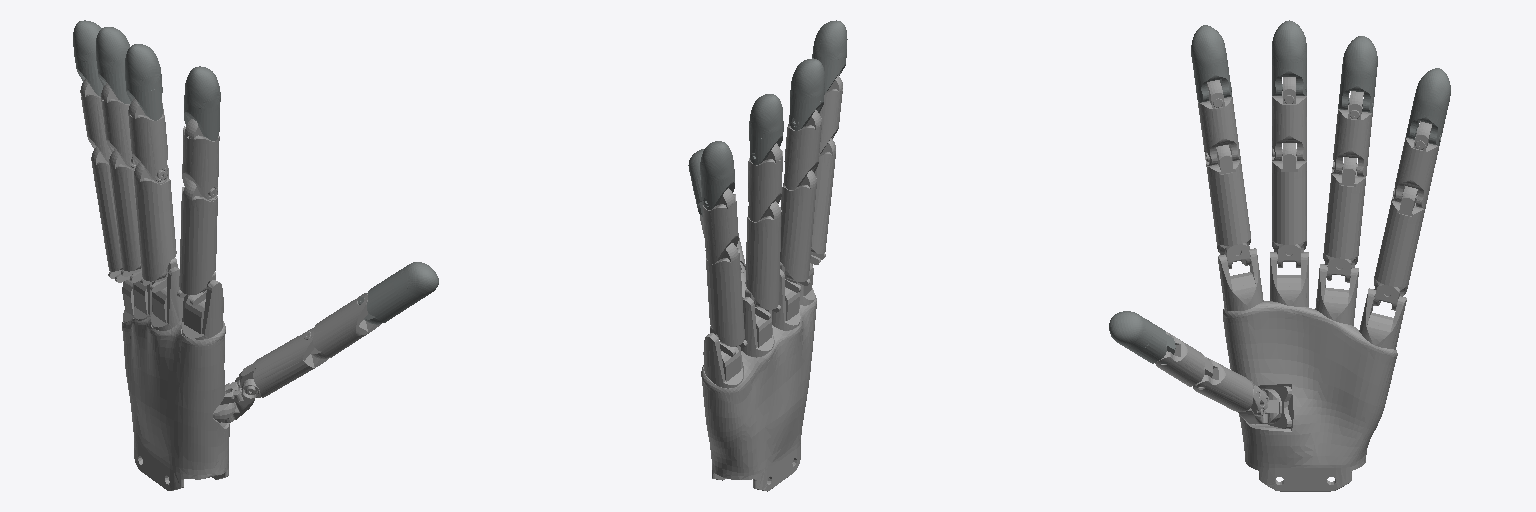
--- What the picture shows (computed from the rendered views, not written in the file) ---
3 views of the same robot in one strip: view 1: azimuth 30°, elevation 25°; view 2: azimuth 150°, elevation 25°; view 3: azimuth 270°, elevation 25° (orthographic).
Model wujihand-right-v1.0.2 with 26 links and 25 joints (20 revolute, 5 fixed), rooted at left_palm_link, posed all joints at 0 but 1 set to mid-range because 0 is outside their limits (left_finger1_joint1 = 0.8262).
Links seen in each view (by area): view 1: left_palm_link, left_finger3_link2, left_finger2_link2, left_finger1_link2, left_finger4_link2, left_finger1_link3, left_finger3_link3, left_finger2_link3, left_finger5_link2, left_finger4_link3, left_finger3_tip_link, left_finger2_tip_link (+9 smaller); view 2: left_palm_link, left_finger4_link2, left_finger3_link2, left_finger5_link2, left_finger3_link3, left_finger4_link3, left_finger5_link3, left_finger2_link2, left_finger3_tip_link, left_finger4_tip_link, left_finger5_tip_link, left_finger2_tip_link (+4 smaller); view 3: left_palm_link, left_finger4_link2, left_finger3_link2, left_finger5_link2, left_finger2_link2, left_finger4_link3, left_finger3_link3, left_finger2_link3, left_finger5_link3, left_finger1_link2, left_finger1_link3, left_finger2_tip_link (+10 smaller).
Boxes of the visible links, bbox=[...] form: left_palm_link: bbox=[122, 267, 235, 490]; left_finger3_link2: bbox=[134, 162, 176, 281]; left_finger2_link2: bbox=[179, 180, 217, 294]; left_finger1_link2: bbox=[240, 328, 329, 397]; left_finger4_link2: bbox=[109, 149, 140, 271]; left_finger1_link3: bbox=[304, 293, 380, 358]; left_finger3_link3: bbox=[128, 98, 167, 183]; left_finger2_link3: bbox=[182, 119, 219, 201]; left_finger5_link2: bbox=[91, 147, 122, 271]; left_finger4_link3: bbox=[101, 83, 135, 169]; left_finger3_tip_link: bbox=[125, 44, 161, 91]; left_finger2_tip_link: bbox=[184, 66, 220, 113]; left_palm_link: bbox=[701, 263, 816, 491]; left_finger4_link2: bbox=[745, 201, 781, 309]; left_finger3_link2: bbox=[780, 170, 816, 281]; left_finger5_link2: bbox=[706, 243, 744, 346]; left_finger3_link3: bbox=[784, 110, 821, 189]; left_finger4_link3: bbox=[748, 143, 782, 221]; left_finger5_link3: bbox=[702, 188, 738, 263]; left_finger2_link2: bbox=[811, 138, 835, 253]; left_finger3_tip_link: bbox=[790, 58, 824, 103]; left_finger4_tip_link: bbox=[749, 94, 783, 138]; left_finger5_tip_link: bbox=[700, 141, 734, 185]; left_finger2_tip_link: bbox=[812, 20, 847, 65]; left_palm_link: bbox=[1218, 248, 1406, 491]; left_finger4_link2: bbox=[1323, 157, 1365, 268]; left_finger3_link2: bbox=[1272, 143, 1306, 254]; left_finger5_link2: bbox=[1374, 186, 1425, 296]; left_finger2_link2: bbox=[1206, 145, 1250, 254]; left_finger4_link3: bbox=[1332, 91, 1372, 176]; left_finger3_link3: bbox=[1272, 77, 1306, 160]; left_finger2_link3: bbox=[1198, 80, 1240, 165]; left_finger5_link3: bbox=[1392, 121, 1439, 208]; left_finger1_link2: bbox=[1193, 356, 1259, 411]; left_finger1_link3: bbox=[1155, 332, 1212, 386]; left_finger2_tip_link: bbox=[1191, 25, 1227, 73].
Size in the robot's own frame: 0.1066 by 0.146 by 0.2057 metres.
Meshes: 26 distinct files referenced, 26 mesh visuals loaded (26 binary STL).

URDF robot description (wujihand-right-v1.0.2):
<?xml version="1.0" encoding="utf-8"?>
<robot
  name="wujihand-right-v1.0.2">
  <mujoco>
    <compiler meshdir="../meshes/left" balanceinertia="true" discardvisual="false" eulerseq="xyz" autolimits="true" />
  </mujoco>
  <link
    name="left_palm_link">
    <inertial><origin xyz="-0.0029787944008666 -0.000452551657325986 0.036654705440297" rpy="0 0 0"/><mass value="0.16914"/><inertia ixx="0.00014" ixy="2.54e-06" ixz="6.91e-06" iyy="9.47e-05" iyz="-6.63e-06" izz="6e-05"/></inertial>
    <visual>
      <origin
        xyz="0 0 0"
        rpy="0 0 0" />
      <geometry>
        <mesh
          filename="package://wuji_hand_description/meshes/left/left_palm_link.STL" />
      </geometry>
      <material
        name="">
        <color
          rgba="0.627450980392157 0.627450980392157 0.627450980392157 1" />
      </material>
    </visual>
    <collision>
      <origin
        xyz="0 0 0"
        rpy="0 0 0" />
      <geometry>
        <mesh
          filename="package://wuji_hand_description/meshes/left/left_palm_link.STL" />
      </geometry>
    </collision>
  </link>
  <link
    name="left_finger1_link1">
    <inertial><origin xyz="-0.00312584337053766 0.00124334711478157 -0.00755622685821667" rpy="0 0 0"/><mass value="0.0075"/><inertia ixx="3.2e-07" ixy="-2e-08" ixz="0.0" iyy="3e-07" iyz="4e-08" izz="2.3e-07"/></inertial>
    <visual>
      <origin
        xyz="0 0 0"
        rpy="0 0 0" />
      <geometry>
        <mesh
          filename="package://wuji_hand_description/meshes/left/left_finger1_link1.STL" />
      </geometry>
      <material
        name="">
        <color
          rgba="0.627450980392157 0.627450980392157 0.627450980392157 1" />
      </material>
    </visual>
    <collision>
      <origin
        xyz="0 0 0"
        rpy="0 0 0" />
      <geometry>
        <mesh
          filename="package://wuji_hand_description/meshes/left/left_finger1_link1.STL" />
      </geometry>
    </collision>
  </link>
  <joint
    name="left_finger1_joint1"
    type="revolute">
    <origin
      xyz="0.00843985365597852 -0.0205866432293554 0.0288928344107784"
      rpy="1.5023139401368 0.43577167910554 3.11264835810693" />
    <parent
      link="left_palm_link" />
    <child
      link="left_finger1_link1" />
    <axis
      xyz="0 1 0" />
    <limit
      lower="0.0583"
      upper="1.5941"
      effort="0.4452"
      velocity="8.587" />
  </joint>
  <link
    name="left_finger1_link2">
    <inertial><origin xyz="-0.00142783471547994 1.46615421709184e-05 -0.0156342507741224" rpy="0 0 0"/><mass value="0.0248"/><inertia ixx="2.76e-06" ixy="2e-08" ixz="1e-08" iyy="2.81e-06" iyz="2e-08" izz="6.8e-07"/></inertial>
    <visual>
      <origin
        xyz="0 0 0"
        rpy="0 0 0" />
      <geometry>
        <mesh
          filename="package://wuji_hand_description/meshes/left/left_finger1_link2.STL" />
      </geometry>
      <material
        name="">
        <color
          rgba="0.627450980392157 0.627450980392157 0.627450980392157 1" />
      </material>
    </visual>
    <collision>
      <origin
        xyz="0 0 0"
        rpy="0 0 0" />
      <geometry>
        <mesh
          filename="package://wuji_hand_description/meshes/left/left_finger1_link2.STL" />
      </geometry>
    </collision>
  </link>
  <joint
    name="left_finger1_joint2"
    type="revolute">
    <origin
      xyz="-0.0054483 0.0058191 -0.01388"
      rpy="0.14937 -0.34623 1.5901" />
    <parent
      link="left_finger1_link1" />
    <child
      link="left_finger1_link2" />
    <axis
      xyz="0 -1 0" />
    <limit
      lower="-0.1199"
      upper="0.9335"
      effort="0.4259"
      velocity="11.1" />
  </joint>
  <link
    name="left_finger1_link3">
    <inertial><origin xyz="0.00112319665690949 1.57299540108416e-05 -0.0130565799894585" rpy="0 0 0"/><mass value="0.0165"/><inertia ixx="1.46e-06" ixy="0.0" ixz="-2e-08" iyy="1.42e-06" iyz="0.0" izz="4.5e-07"/></inertial>
    <visual>
      <origin
        xyz="0 0 0"
        rpy="0 0 0" />
      <geometry>
        <mesh
          filename="package://wuji_hand_description/meshes/left/left_finger1_link3.STL" />
      </geometry>
      <material
        name="">
        <color
          rgba="0.627450980392157 0.627450980392157 0.627450980392157 1" />
      </material>
    </visual>
    <collision>
      <origin
        xyz="0 0 0"
        rpy="0 0 0" />
      <geometry>
        <mesh
          filename="package://wuji_hand_description/meshes/left/left_finger1_link3.STL" />
      </geometry>
    </collision>
  </link>
  <joint
    name="left_finger1_joint3"
    type="revolute">
    <origin
      xyz="-0.000846961087777298 0.000991504133990267 -0.0346562987377679"
      rpy="0.0332538563601251 0.0117623260174173 -1.90877003040037" />
    <parent
      link="left_finger1_link2" />
    <child
      link="left_finger1_link3" />
    <axis
      xyz="0 1 0" />
    <limit
      lower="-0.4646"
      upper="1.5639"
      effort="0.1888"
      velocity="13.578" />
  </joint>
  <link
    name="left_finger1_link4">
    <inertial><origin xyz="0.00119215114836296 1.41428709807684e-05 -0.00821130287749315" rpy="0 0 0"/><mass value="0.0165"/><inertia ixx="1.18e-06" ixy="0.0" ixz="1.2e-07" iyy="1.25e-06" iyz="0.0" izz="5.1e-07"/></inertial>
    <visual>
      <origin
        xyz="0 0 0"
        rpy="0 0 0" />
      <geometry>
        <mesh
          filename="package://wuji_hand_description/meshes/left/left_finger1_link4.STL" />
      </geometry>
      <material
        name="">
        <color
          rgba="0.529411764705882 0.549019607843137 0.549019607843137 1" />
      </material>
    </visual>
    <collision>
      <origin
        xyz="0 0 0"
        rpy="0 0 0" />
      <geometry>
        <mesh
          filename="package://wuji_hand_description/meshes/left/left_finger1_link4.STL" />
      </geometry>
    </collision>
  </link>
  <joint
    name="left_finger1_joint4"
    type="revolute">
    <origin
      xyz="0 0 -0.0294999998969489"
      rpy="0 0 0" />
    <parent
      link="left_finger1_link3" />
    <child
      link="left_finger1_link4" />
    <axis
      xyz="0 1 0" />
    <limit
      lower="-0.4570"
      upper="1.5684"
      effort="0.1468"
      velocity="12.863" />
  </joint>
  <link
    name="left_finger1_tip_link">
    <inertial><origin xyz="-0.000321120906836544 5.07425935932157e-05 0.000622110779642859" rpy="0 0 0"/><mass value="0.0041"/><inertia ixx="5.5e-07" ixy="0.0" ixz="2e-08" iyy="5.2e-07" iyz="0.0" izz="2.7e-07"/></inertial>
    <visual>
      <origin
        xyz="0 0 0"
        rpy="0 0 0" />
      <geometry>
        <mesh
          filename="package://wuji_hand_description/meshes/left/left_finger1_tip_link.STL" />
      </geometry>
      <material
        name="">
        <color
          rgba="0.529411764705882 0.549019607843137 0.549019607843137 1" />
      </material>
    </visual>
    <collision>
      <origin
        xyz="0 0 0"
        rpy="0 0 0" />
      <geometry>
        <mesh
          filename="package://wuji_hand_description/meshes/left/left_finger1_tip_link.STL" />
      </geometry>
    </collision>
  </link>
  <joint
    name="left_finger1_tip_fixed"
    type="fixed">
    <origin
      xyz="0.00104999999999626 0 -0.0235000000000007"
      rpy="3.14159265358971 0 -3.14159265358979" />
    <parent
      link="left_finger1_link4" />
    <child
      link="left_finger1_tip_link" />
    <axis
      xyz="0 0 0" />
  </joint>
  <link
    name="left_finger2_link1">
    <inertial><origin xyz="-0.00134243892861889 -5.65576364214282e-09 0.000258175161295587" rpy="0 0 0"/><mass value="0.0032"/><inertia ixx="8e-08" ixy="0.0" ixz="-3e-08" iyy="7e-08" iyz="0.0" izz="8e-08"/></inertial>
    <visual>
      <origin
        xyz="0 0 0"
        rpy="0 0 0" />
      <geometry>
        <mesh
          filename="package://wuji_hand_description/meshes/left/left_finger2_link1.STL" />
      </geometry>
      <material
        name="">
        <color
          rgba="0.627450980392157 0.627450980392157 0.627450980392157 1" />
      </material>
    </visual>
    <collision>
      <origin
        xyz="0 0 0"
        rpy="0 0 0" />
      <geometry>
        <mesh
          filename="package://wuji_hand_description/meshes/left/left_finger2_link1.STL" />
      </geometry>
    </collision>
  </link>
  <joint
    name="left_finger2_joint1"
    type="revolute">
    <origin
      xyz="-0.00587008921400943 -0.0294338632807759 0.0919165306703557"
      rpy="0.110463316505378 -0.0251937198594477 0.223332069867641" />
    <parent
      link="left_palm_link" />
    <child
      link="left_finger2_link1" />
    <axis
      xyz="0 1 0" />
    <limit
      lower="-0.1560"
      upper="1.5619"
      effort="0.6188"
      velocity="8.203" />
  </joint>
  <link
    name="left_finger2_link2">
    <inertial><origin xyz="-0.00453252206258244 4.38298002711224e-07 0.0209110403187525" rpy="0 0 0"/><mass value="0.033"/><inertia ixx="6.31e-06" ixy="0.0" ixz="-1.6e-07" iyy="6.34e-06" iyz="0.0" izz="8.9e-07"/></inertial>
    <visual>
      <origin
        xyz="0 0 0"
        rpy="0 0 0" />
      <geometry>
        <mesh
          filename="package://wuji_hand_description/meshes/left/left_finger2_link2.STL" />
      </geometry>
      <material
        name="">
        <color
          rgba="0.627450980392157 0.627450980392157 0.627450980392157 1" />
      </material>
    </visual>
    <collision>
      <origin
        xyz="0 0 0"
        rpy="0 0 0" />
      <geometry>
        <mesh
          filename="package://wuji_hand_description/meshes/left/left_finger2_link2.STL" />
      </geometry>
    </collision>
  </link>
  <joint
    name="left_finger2_joint2"
    type="revolute">
    <origin
      xyz="0.000389540189408399 0 0.00402230398376657"
      rpy="0 -0.0462278050739338 0" />
    <parent
      link="left_finger2_link1" />
    <child
      link="left_finger2_link2" />
    <axis
      xyz="-1 0 0" />
    <limit
      lower="-0.4095"
      upper="0.2921"
      effort="0.1822"
      velocity="8.115" />
  </joint>
  <link
    name="left_finger2_link3">
    <inertial><origin xyz="-0.00112187305056449 -6.72383091306211e-05 0.0157188385130449" rpy="0 0 0"/><mass value="0.0165"/><inertia ixx="1.47e-06" ixy="0.0" ixz="3e-08" iyy="1.44e-06" iyz="0.0" izz="4.5e-07"/></inertial>
    <visual>
      <origin
        xyz="0 0 0"
        rpy="0 0 0" />
      <geometry>
        <mesh
          filename="package://wuji_hand_description/meshes/left/left_finger2_link3.STL" />
      </geometry>
      <material
        name="">
        <color
          rgba="0.627450980392157 0.627450980392157 0.627450980392157 1" />
      </material>
    </visual>
    <collision>
      <origin
        xyz="0 0 0"
        rpy="0 0 0" />
      <geometry>
        <mesh
          filename="package://wuji_hand_description/meshes/left/left_finger2_link3.STL" />
      </geometry>
    </collision>
  </link>
  <joint
    name="left_finger2_joint3"
    type="revolute">
    <origin
      xyz="-0.00312502624735005 0.000100282455430194 0.0436176874512652"
      rpy="0 0 0.000268612717770449" />
    <parent
      link="left_finger2_link2" />
    <child
      link="left_finger2_link3" />
    <axis
      xyz="0 1 0" />
    <limit
      lower="-0.4839"
      upper="1.5466"
      effort="0.2251"
      velocity="13.578" />
  </joint>
  <link
    name="left_finger2_link4">
    <inertial><origin xyz="-0.000894378084124292 -8.29346633020867e-05 0.00535175866484416" rpy="0 0 0"/><mass value="0.014"/><inertia ixx="9.5e-07" ixy="0.0" ixz="1.4e-07" iyy="8.6e-07" iyz="-1e-08" izz="3e-07"/></inertial>
    <visual>
      <origin
        xyz="0 0 0"
        rpy="0 0 0" />
      <geometry>
        <mesh
          filename="package://wuji_hand_description/meshes/left/left_finger2_link4.STL" />
      </geometry>
      <material
        name="">
        <color
          rgba="0.529411764705882 0.549019607843137 0.549019607843137 1" />
      </material>
    </visual>
    <collision>
      <origin
        xyz="0 0 0"
        rpy="0 0 0" />
      <geometry>
        <mesh
          filename="package://wuji_hand_description/meshes/left/left_finger2_link4.STL" />
      </geometry>
    </collision>
  </link>
  <joint
    name="left_finger2_joint4"
    type="revolute">
    <origin
      xyz="0 0 0.0294999999999921"
      rpy="0 0 0" />
    <parent
      link="left_finger2_link3" />
    <child
      link="left_finger2_link4" />
    <axis
      xyz="0 1 0" />
    <limit
      lower="-0.4723"
      upper="1.5754"
      effort="0.2170"
      velocity="12.863" />
  </joint>
  <link
    name="left_finger2_tip_link">
    <inertial><origin xyz="0.000717599084723131 -8.44809051070428e-06 -0.00585768176210114" rpy="0 0 0"/><mass value="0.00318"/><inertia ixx="2e-07" ixy="0.0" ixz="0.0" iyy="2.1e-07" iyz="0.0" izz="1.3e-07"/></inertial>
    <visual>
      <origin
        xyz="0 0 0"
        rpy="0 0 0" />
      <geometry>
        <mesh
          filename="package://wuji_hand_description/meshes/left/left_finger2_tip_link.STL" />
      </geometry>
      <material
        name="">
        <color
          rgba="0.529411764705882 0.549019607843137 0.549019607843137 1" />
      </material>
    </visual>
    <collision>
      <origin
        xyz="0 0 0"
        rpy="0 0 0" />
      <geometry>
        <mesh
          filename="package://wuji_hand_description/meshes/left/left_finger2_tip_link.STL" />
      </geometry>
    </collision>
  </link>
  <joint
    name="left_finger2_tip_fixed"
    type="fixed">
    <origin
      xyz="-0.00199999998882132 -9.99999775618474E-05 0.0239466139626726"
      rpy="0 0 0" />
    <parent
      link="left_finger2_link4" />
    <child
      link="left_finger2_tip_link" />
    <axis
      xyz="0 0 0" />
  </joint>
  <link
    name="left_finger3_link1">
    <inertial><origin xyz="-0.00135189648465354 -1.49581419299494e-08 0.000202846484209235" rpy="0 0 0"/><mass value="0.0032"/><inertia ixx="8e-08" ixy="0.0" ixz="-3e-08" iyy="7e-08" iyz="0.0" izz="8e-08"/></inertial>
    <visual>
      <origin
        xyz="0 0 0"
        rpy="0 0 0" />
      <geometry>
        <mesh
          filename="package://wuji_hand_description/meshes/left/left_finger3_link1.STL" />
      </geometry>
      <material
        name="">
        <color
          rgba="0.627450980392157 0.627450980392157 0.627450980392157 1" />
      </material>
    </visual>
    <collision>
      <origin
        xyz="0 0 0"
        rpy="0 0 0" />
      <geometry>
        <mesh
          filename="package://wuji_hand_description/meshes/left/left_finger3_link1.STL" />
      </geometry>
    </collision>
  </link>
  <joint
    name="left_finger3_joint1"
    type="revolute">
    <origin
      xyz="-0.01046 -0.0074615 0.089544"
      rpy="5.0693E-05 0 -0.00057944" />
    <parent
      link="left_palm_link" />
    <child
      link="left_finger3_link1" />
    <axis
      xyz="0 1 0" />
    <limit
      lower="-0.1569"
      upper="1.5536"
      effort="0.6494"
      velocity="8.203" />
  </joint>
  <link
    name="left_finger3_link2">
    <inertial><origin xyz="-0.00633780329162388 3.07421349281852e-06 0.0204364275125137" rpy="0 0 0"/><mass value="0.033"/><inertia ixx="6.31e-06" ixy="0.0" ixz="-1.6e-07" iyy="6.34e-06" iyz="0.0" izz="8.9e-07"/></inertial>
    <visual>
      <origin
        xyz="0 0 0"
        rpy="0 0 0" />
      <geometry>
        <mesh
          filename="package://wuji_hand_description/meshes/left/left_finger3_link2.STL" />
      </geometry>
      <material
        name="">
        <color
          rgba="0.627450980392157 0.627450980392157 0.627450980392157 1" />
      </material>
    </visual>
    <collision>
      <origin
        xyz="0 0 0"
        rpy="0 0 0" />
      <geometry>
        <mesh
          filename="package://wuji_hand_description/meshes/left/left_finger3_link2.STL" />
      </geometry>
    </collision>
  </link>
  <joint
    name="left_finger3_joint2"
    type="revolute">
    <origin
      xyz="0.000224188923157675 0 0.00403489896760838"
      rpy="0 -0.0872664630099629 0" />
    <parent
      link="left_finger3_link1" />
    <child
      link="left_finger3_link2" />
    <axis
      xyz="-1 0 0" />
    <limit
      lower="-0.3977"
      upper="0.3115"
      effort="0.1827"
      velocity="8.115" />
  </joint>
  <link
    name="left_finger3_link3">
    <inertial><origin xyz="-0.00112187206031908 -6.72195699478878e-05 0.0157188383883545" rpy="0 0 0"/><mass value="0.0165"/><inertia ixx="1.47e-06" ixy="0.0" ixz="3e-08" iyy="1.44e-06" iyz="0.0" izz="4.5e-07"/></inertial>
    <visual>
      <origin
        xyz="0 0 0"
        rpy="0 0 0" />
      <geometry>
        <mesh
          filename="package://wuji_hand_description/meshes/left/left_finger3_link3.STL" />
      </geometry>
      <material
        name="">
        <color
          rgba="0.627450980392157 0.627450980392157 0.627450980392157 1" />
      </material>
    </visual>
    <collision>
      <origin
        xyz="0 0 0"
        rpy="0 0 0" />
      <geometry>
        <mesh
          filename="package://wuji_hand_description/meshes/left/left_finger3_link3.STL" />
      </geometry>
    </collision>
  </link>
  <joint
    name="left_finger3_joint3"
    type="revolute">
    <origin
      xyz="-0.00312502618421547 0.000100282625113788 0.0436176874508615"
      rpy="0 0 0.000268612717747223" />
    <parent
      link="left_finger3_link2" />
    <child
      link="left_finger3_link3" />
    <axis
      xyz="0 1 0" />
    <limit
      lower="-0.4847"
      upper="1.5411"
      effort="0.2078"
      velocity="13.578" />
  </joint>
  <link
    name="left_finger3_link4">
    <inertial><origin xyz="-0.000894360550804676 -8.29500264891304e-05 0.00535176646607979" rpy="0 0 0"/><mass value="0.014"/><inertia ixx="9.5e-07" ixy="0.0" ixz="1.4e-07" iyy="8.6e-07" iyz="-1e-08" izz="3e-07"/></inertial>
    <visual>
      <origin
        xyz="0 0 0"
        rpy="0 0 0" />
      <geometry>
        <mesh
          filename="package://wuji_hand_description/meshes/left/left_finger3_link4.STL" />
      </geometry>
      <material
        name="">
        <color
          rgba="0.529411764705882 0.549019607843137 0.549019607843137 1" />
      </material>
    </visual>
    <collision>
      <origin
        xyz="0 0 0"
        rpy="0 0 0" />
      <geometry>
        <mesh
          filename="package://wuji_hand_description/meshes/left/left_finger3_link4.STL" />
      </geometry>
    </collision>
  </link>
  <joint
    name="left_finger3_joint4"
    type="revolute">
    <origin
      xyz="0 0 0.0294999999999998"
      rpy="0 0 0" />
    <parent
      link="left_finger3_link3" />
    <child
      link="left_finger3_link4" />
    <axis
      xyz="0 1 0" />
    <limit
      lower="-0.4671"
      upper="1.5788"
      effort="0.2018"
      velocity="12.863" />
  </joint>
  <link
    name="left_finger3_tip_link">
    <inertial><origin xyz="0.000762258859382664 -7.6173785743764e-07 -0.00585762976136608" rpy="0 0 0"/><mass value="0.00318"/><inertia ixx="2e-07" ixy="0.0" ixz="0.0" iyy="2.1e-07" iyz="0.0" izz="1.3e-07"/></inertial>
    <visual>
      <origin
        xyz="0 0 0"
        rpy="0 0 0" />
      <geometry>
        <mesh
          filename="package://wuji_hand_description/meshes/left/left_finger3_tip_link.STL" />
      </geometry>
      <material
        name="">
        <color
          rgba="0.529411764705882 0.549019607843137 0.549019607843137 1" />
      </material>
    </visual>
    <collision>
      <origin
        xyz="0 0 0"
        rpy="0 0 0" />
      <geometry>
        <mesh
          filename="package://wuji_hand_description/meshes/left/left_finger3_tip_link.STL" />
      </geometry>
    </collision>
  </link>
  <joint
    name="left_finger3_tip_fixed"
    type="fixed">
    <origin
      xyz="-0.00199999998882053 -9.99999999926624E-05 0.0239466139625789"
      rpy="0 0 0" />
    <parent
      link="left_finger3_link4" />
    <child
      link="left_finger3_tip_link" />
    <axis
      xyz="0 0 0" />
  </joint>
  <link
    name="left_finger4_link1">
    <inertial><origin xyz="-0.00135118675339803 -9.65326286614387e-09 0.000207528544014832" rpy="0 0 0"/><mass value="0.0032"/><inertia ixx="8e-08" ixy="0.0" ixz="-3e-08" iyy="7e-08" iyz="0.0" izz="8e-08"/></inertial>
    <visual>
      <origin
        xyz="0 0 0"
        rpy="0 0 0" />
      <geometry>
        <mesh
          filename="package://wuji_hand_description/meshes/left/left_finger4_link1.STL" />
      </geometry>
      <material
        name="">
        <color
          rgba="0.627450980392157 0.627450980392157 0.627450980392157 1" />
      </material>
    </visual>
    <collision>
      <origin
        xyz="0 0 0"
        rpy="0 0 0" />
      <geometry>
        <mesh
          filename="package://wuji_hand_description/meshes/left/left_finger4_link1.STL" />
      </geometry>
    </collision>
  </link>
  <joint
    name="left_finger4_joint1"
    type="revolute">
    <origin
      xyz="-0.0076649 0.013712 0.084429"
      rpy="-0.090059 0 -0.054679" />
    <parent
      link="left_palm_link" />
    <child
      link="left_finger4_link1" />
    <axis
      xyz="0 1 0" />
    <limit
      lower="-0.1507"
      upper="1.5636"
      effort="0.6389"
      velocity="8.203" />
  </joint>
  <link
    name="left_finger4_link2">
    <inertial><origin xyz="-0.00452747286008461 0.0002141653801618 0.0209110368688094" rpy="0 0 0"/><mass value="0.033"/><inertia ixx="6.31e-06" ixy="0.0" ixz="-1.6e-07" iyy="6.34e-06" iyz="0.0" izz="8.9e-07"/></inertial>
    <visual>
      <origin
        xyz="0 0 0"
        rpy="0 0 0" />
      <geometry>
        <mesh
          filename="package://wuji_hand_description/meshes/left/left_finger4_link2.STL" />
      </geometry>
      <material
        name="">
        <color
          rgba="0.627450980392157 0.627450980392157 0.627450980392157 1" />
      </material>
    </visual>
    <collision>
      <origin
        xyz="0 0 0"
        rpy="0 0 0" />
      <geometry>
        <mesh
          filename="package://wuji_hand_description/meshes/left/left_finger4_link2.STL" />
      </geometry>
    </collision>
  </link>
  <joint
    name="left_finger4_joint2"
    type="revolute">
    <origin
      xyz="0.000238272023819444 0 0.00403409169489746"
      rpy="0 -0.0837758044893524 0" />
    <parent
      link="left_finger4_link1" />
    <child
      link="left_finger4_link2" />
    <axis
      xyz="-1 0 0" />
    <limit
      lower="-0.4101"
      upper="0.3014"
      effort="0.1832"
      velocity="8.115" />
  </joint>
  <link
    name="left_finger4_link3">
    <inertial><origin xyz="-0.00112187686014802 -6.72060755895765e-05 0.015718842473584" rpy="0 0 0"/><mass value="0.0165"/><inertia ixx="1.47e-06" ixy="0.0" ixz="3e-08" iyy="1.44e-06" iyz="0.0" izz="4.5e-07"/></inertial>
    <visual>
      <origin
        xyz="0 0 0"
        rpy="0 0 0" />
      <geometry>
        <mesh
          filename="package://wuji_hand_description/meshes/left/left_finger4_link3.STL" />
      </geometry>
      <material
        name="">
        <color
          rgba="0.627450980392157 0.627450980392157 0.627450980392157 1" />
      </material>
    </visual>
    <collision>
      <origin
        xyz="0 0 0"
        rpy="0 0 0" />
      <geometry>
        <mesh
          filename="package://wuji_hand_description/meshes/left/left_finger4_link3.STL" />
      </geometry>
    </collision>
  </link>
  <joint
    name="left_finger4_joint3"
    type="revolute">
    <origin
      xyz="-0.00312502629370909 0.000100282441161618 0.0436176874512648"
      rpy="0 0 0.000268623287696204" />
    <parent
      link="left_finger4_link2" />
    <child
      link="left_finger4_link3" />
    <axis
      xyz="0 1 0" />
    <limit
      lower="-0.4747"
      upper="1.5526"
      effort="0.2249"
      velocity="13.578" />
  </joint>
  <link
    name="left_finger4_link4">
    <inertial><origin xyz="-0.000894364002322151 -8.29585181423027e-05 0.00535176963985756" rpy="0 0 0"/><mass value="0.014"/><inertia ixx="9.5e-07" ixy="0.0" ixz="1.4e-07" iyy="8.6e-07" iyz="-1e-08" izz="3e-07"/></inertial>
    <visual>
      <origin
        xyz="0 0 0"
        rpy="0 0 0" />
      <geometry>
        <mesh
          filename="package://wuji_hand_description/meshes/left/left_finger4_link4.STL" />
      </geometry>
      <material
        name="">
        <color
          rgba="0.529411764705882 0.549019607843137 0.549019607843137 1" />
      </material>
    </visual>
    <collision>
      <origin
        xyz="0 0 0"
        rpy="0 0 0" />
      <geometry>
        <mesh
          filename="package://wuji_hand_description/meshes/left/left_finger4_link4.STL" />
      </geometry>
    </collision>
  </link>
  <joint
    name="left_finger4_joint4"
    type="revolute">
    <origin
      xyz="0 0 0.0295000000000005"
      rpy="0 0 0" />
    <parent
      link="left_finger4_link3" />
    <child
      link="left_finger4_link4" />
    <axis
      xyz="0 1 0" />
    <limit
      lower="-0.4729"
      upper="1.5718"
      effort="0.2044"
      velocity="12.863" />
  </joint>
  <link
    name="left_finger4_tip_link">
    <inertial><origin xyz="0.00076005480047972 -1.77864189068594e-05 -0.00585759702543506" rpy="0 0 0"/><mass value="0.00318"/><inertia ixx="2e-07" ixy="0.0" ixz="0.0" iyy="2.1e-07" iyz="0.0" izz="1.3e-07"/></inertial>
    <visual>
      <origin
        xyz="0 0 0"
        rpy="0 0 0" />
      <geometry>
        <mesh
          filename="package://wuji_hand_description/meshes/left/left_finger4_tip_link.STL" />
      </geometry>
      <material
        name="">
        <color
          rgba="0.529411764705882 0.549019607843137 0.549019607843137 1" />
      </material>
    </visual>
    <collision>
      <origin
        xyz="0 0 0"
        rpy="0 0 0" />
      <geometry>
        <mesh
          filename="package://wuji_hand_description/meshes/left/left_finger4_tip_link.STL" />
      </geometry>
    </collision>
  </link>
  <joint
    name="left_finger4_tip_fixed"
    type="fixed">
    <origin
      xyz="-0.00199999999999928 -9.99999794204474E-05 0.0239466139617312"
      rpy="0 0 0" />
    <parent
      link="left_finger4_link4" />
    <child
      link="left_finger4_tip_link" />
    <axis
      xyz="0 0 0" />
  </joint>
  <link
    name="left_finger5_link1">
    <inertial><origin xyz="-0.00135329447496806 -2.35789230987327e-08 0.000193346570700414" rpy="0 0 0"/><mass value="0.0032"/><inertia ixx="8e-08" ixy="0.0" ixz="-3e-08" iyy="7e-08" iyz="0.0" izz="8e-08"/></inertial>
    <visual>
      <origin
        xyz="0 0 0"
        rpy="0 0 0" />
      <geometry>
        <mesh
          filename="package://wuji_hand_description/meshes/left/left_finger5_link1.STL" />
      </geometry>
      <material
        name="">
        <color
          rgba="0.627450980392157 0.627450980392157 0.627450980392157 1" />
      </material>
    </visual>
    <collision>
      <origin
        xyz="0 0 0"
        rpy="0 0 0" />
      <geometry>
        <mesh
          filename="package://wuji_hand_description/meshes/left/left_finger5_link1.STL" />
      </geometry>
    </collision>
  </link>
  <joint
    name="left_finger5_joint1"
    type="revolute">
    <origin
      xyz="-0.00226865105948153 0.0340011106647822 0.0742813381432918"
      rpy="-0.191650218499317 0 -0.175676455157885" />
    <parent
      link="left_palm_link" />
    <child
      link="left_finger5_link1" />
    <axis
      xyz="0 1 0" />
    <limit
      lower="-0.1578"
      upper="1.5632"
      effort="0.6441"
      velocity="8.203" />
  </joint>
  <link
    name="left_finger5_link2">
    <inertial><origin xyz="-0.00453252784898839 4.36745136160599e-07 0.0209110443867004" rpy="0 0 0"/><mass value="0.033"/><inertia ixx="6.31e-06" ixy="0.0" ixz="-1.6e-07" iyy="6.34e-06" iyz="0.0" izz="8.9e-07"/></inertial>
    <visual>
      <origin
        xyz="0 0 0"
        rpy="0 0 0" />
      <geometry>
        <mesh
          filename="package://wuji_hand_description/meshes/left/left_finger5_link2.STL" />
      </geometry>
      <material
        name="">
        <color
          rgba="0.627450980392157 0.627450980392157 0.627450980392157 1" />
      </material>
    </visual>
    <collision>
      <origin
        xyz="0 0 0"
        rpy="0 0 0" />
      <geometry>
        <mesh
          filename="package://wuji_hand_description/meshes/left/left_finger5_link2.STL" />
      </geometry>
    </collision>
  </link>
  <joint
    name="left_finger5_joint2"
    type="revolute">
    <origin
      xyz="0.000196015009673409 0 0.00403636545307588"
      rpy="0 -0.0942477800158131 0" />
    <parent
      link="left_finger5_link1" />
    <child
      link="left_finger5_link2" />
    <axis
      xyz="-1 0 0" />
    <limit
      lower="-0.4103"
      upper="0.2949"
      effort="0.1798"
      velocity="8.115" />
  </joint>
  <link
    name="left_finger5_link3">
    <inertial><origin xyz="-0.00112187608632448 -6.71933271821773e-05 0.0157188470383108" rpy="0 0 0"/><mass value="0.0165"/><inertia ixx="1.47e-06" ixy="0.0" ixz="3e-08" iyy="1.44e-06" iyz="0.0" izz="4.5e-07"/></inertial>
    <visual>
      <origin
        xyz="0 0 0"
        rpy="0 0 0" />
      <geometry>
        <mesh
          filename="package://wuji_hand_description/meshes/left/left_finger5_link3.STL" />
      </geometry>
      <material
        name="">
        <color
          rgba="0.627450980392157 0.627450980392157 0.627450980392157 1" />
      </material>
    </visual>
    <collision>
      <origin
        xyz="0 0 0"
        rpy="0 0 0" />
      <geometry>
        <mesh
          filename="package://wuji_hand_description/meshes/left/left_finger5_link3.STL" />
      </geometry>
    </collision>
  </link>
  <joint
    name="left_finger5_joint3"
    type="revolute">
    <origin
      xyz="-0.00312502637316564 0.000100282626826854 0.0436176864544762"
      rpy="0 0 0.000268612717748753" />
    <parent
      link="left_finger5_link2" />
    <child
      link="left_finger5_link3" />
    <axis
      xyz="0 1 0" />
    <limit
      lower="-0.4733"
      upper="1.5560"
      effort="0.2384"
      velocity="13.578" />
  </joint>
  <link
    name="left_finger5_link4">
    <inertial><origin xyz="-0.000894376068463737 -8.29587184504807e-05 0.00535176561210726" rpy="0 0 0"/><mass value="0.014"/><inertia ixx="9.5e-07" ixy="0.0" ixz="1.4e-07" iyy="8.6e-07" iyz="-1e-08" izz="3e-07"/></inertial>
    <visual>
      <origin
        xyz="0 0 0"
        rpy="0 0 0" />
      <geometry>
        <mesh
          filename="package://wuji_hand_description/meshes/left/left_finger5_link4.STL" />
      </geometry>
      <material
        name="">
        <color
          rgba="0.529411764705882 0.549019607843137 0.549019607843137 1" />
      </material>
    </visual>
    <collision>
      <origin
        xyz="0 0 0"
        rpy="0 0 0" />
      <geometry>
        <mesh
          filename="package://wuji_hand_description/meshes/left/left_finger5_link4.STL" />
      </geometry>
    </collision>
  </link>
  <joint
    name="left_finger5_joint4"
    type="revolute">
    <origin
      xyz="0 0 0.0295000009963936"
      rpy="0 0 0" />
    <parent
      link="left_finger5_link3" />
    <child
      link="left_finger5_link4" />
    <axis
      xyz="0 1 0" />
    <limit
      lower="-0.4662"
      upper="1.5760"
      effort="0.1866"
      velocity="12.863" />
  </joint>
  <link
    name="left_finger5_tip_link">
    <inertial><origin xyz="0.000743020095030855 4.15556515511589e-06 -0.00585759127452531" rpy="0 0 0"/><mass value="0.00318"/><inertia ixx="2e-07" ixy="0.0" ixz="0.0" iyy="2.1e-07" iyz="0.0" izz="1.3e-07"/></inertial>
    <visual>
      <origin
        xyz="0 0 0"
        rpy="0 0 0" />
      <geometry>
        <mesh
          filename="package://wuji_hand_description/meshes/left/left_finger5_tip_link.STL" />
      </geometry>
      <material
        name="">
        <color
          rgba="0.529411764705882 0.549019607843137 0.549019607843137 1" />
      </material>
    </visual>
    <collision>
      <origin
        xyz="0 0 0"
        rpy="0 0 0" />
      <geometry>
        <mesh
          filename="package://wuji_hand_description/meshes/left/left_finger5_tip_link.STL" />
      </geometry>
    </collision>
  </link>
  <joint
    name="left_finger5_tip_fixed"
    type="fixed">
    <origin
      xyz="-0.00200000001120192 -9.99999794204162E-05 0.0239466139607956"
      rpy="0 0 0" />
    <parent
      link="left_finger5_link4" />
    <child
      link="left_finger5_tip_link" />
    <axis
      xyz="0 0 0" />
  </joint>
</robot>
